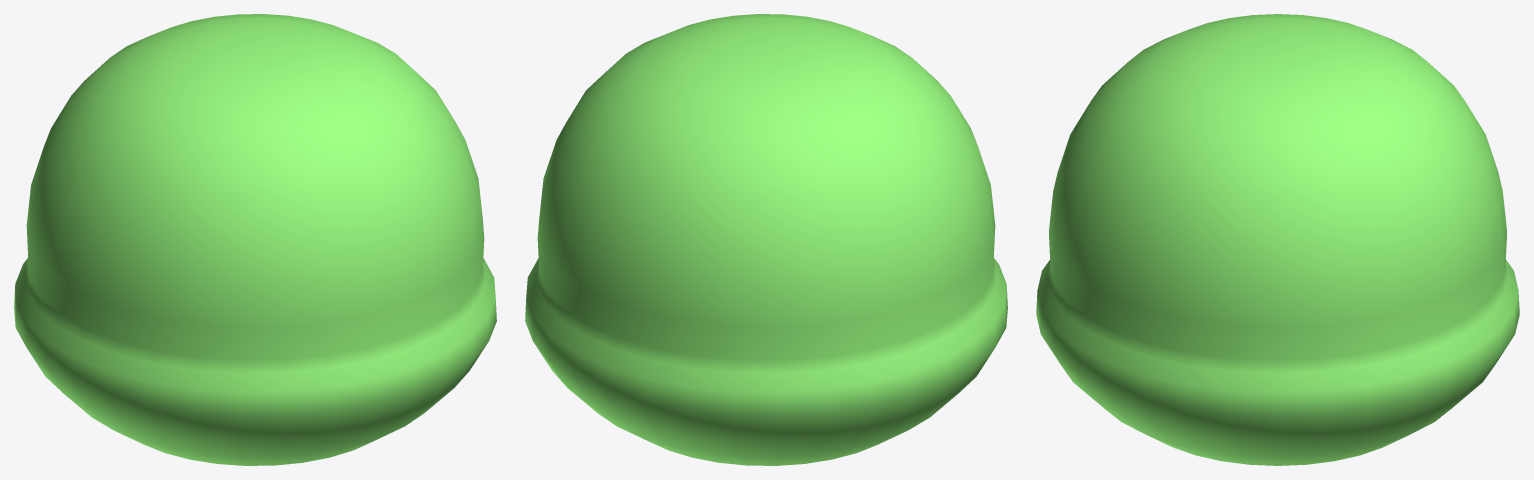
Rendered from BolaMenta.fbx.
The picture shows the model from 3 angles, left to right: view 1: azimuth 30°, elevation 25°; view 2: azimuth 150°, elevation 25°; view 3: azimuth 270°, elevation 25°; orthographic projection.
Visible parts, largest first — view 1: BolaMenta; view 2: BolaMenta; view 3: BolaMenta.
Boxes of the visible parts, x1=… form: BolaMenta: x1=14, y1=14, x2=496, y2=465; BolaMenta: x1=525, y1=14, x2=1007, y2=465; BolaMenta: x1=1036, y1=14, x2=1519, y2=465.
Size of the model in its own units: 305 by 270 by 305.
